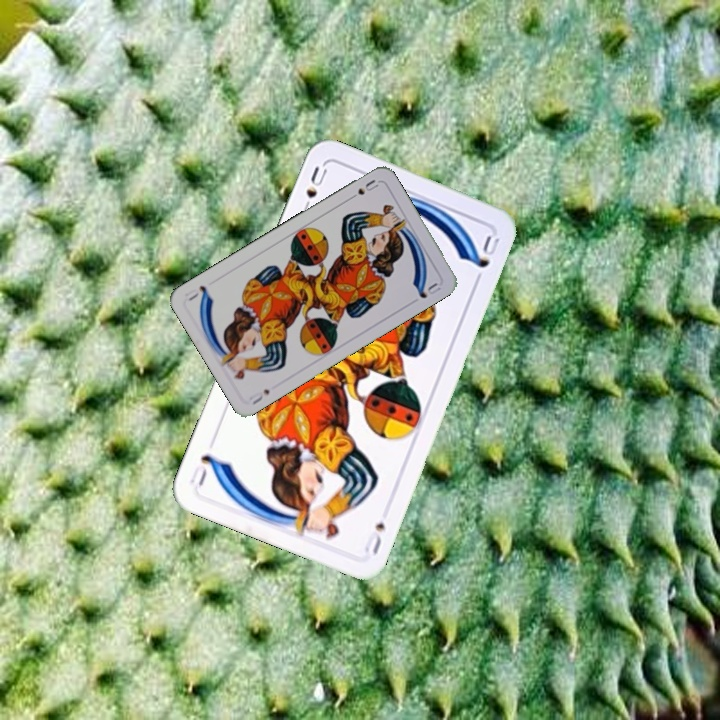SU: (298, 162, 330, 218), (360, 518, 388, 558), (344, 175, 381, 203), (245, 385, 272, 407)
